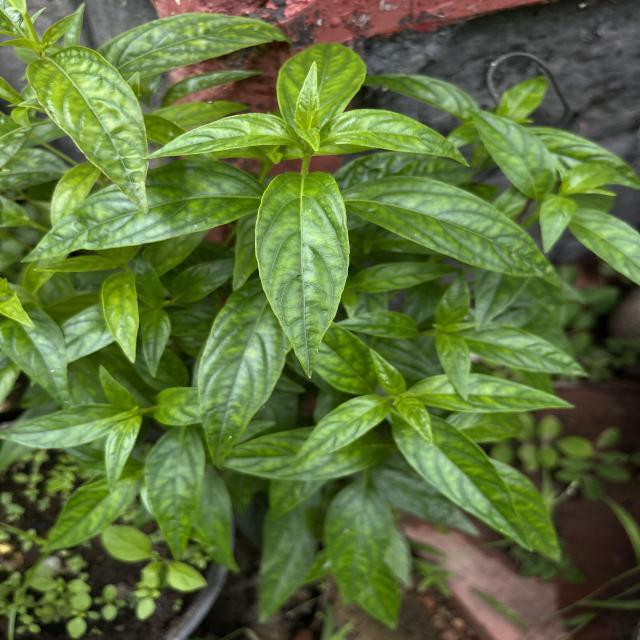Andrographis paniculata: (342, 174, 567, 289), (18, 158, 258, 265), (24, 43, 154, 215), (388, 408, 534, 554), (251, 168, 351, 380), (196, 278, 291, 470), (98, 10, 288, 79), (318, 474, 394, 604), (317, 106, 475, 168), (142, 425, 206, 563), (140, 110, 298, 162), (272, 41, 372, 122), (463, 321, 591, 384), (472, 104, 556, 198), (290, 392, 388, 470), (421, 372, 576, 416), (0, 400, 130, 450), (365, 70, 476, 117), (98, 270, 145, 364)
